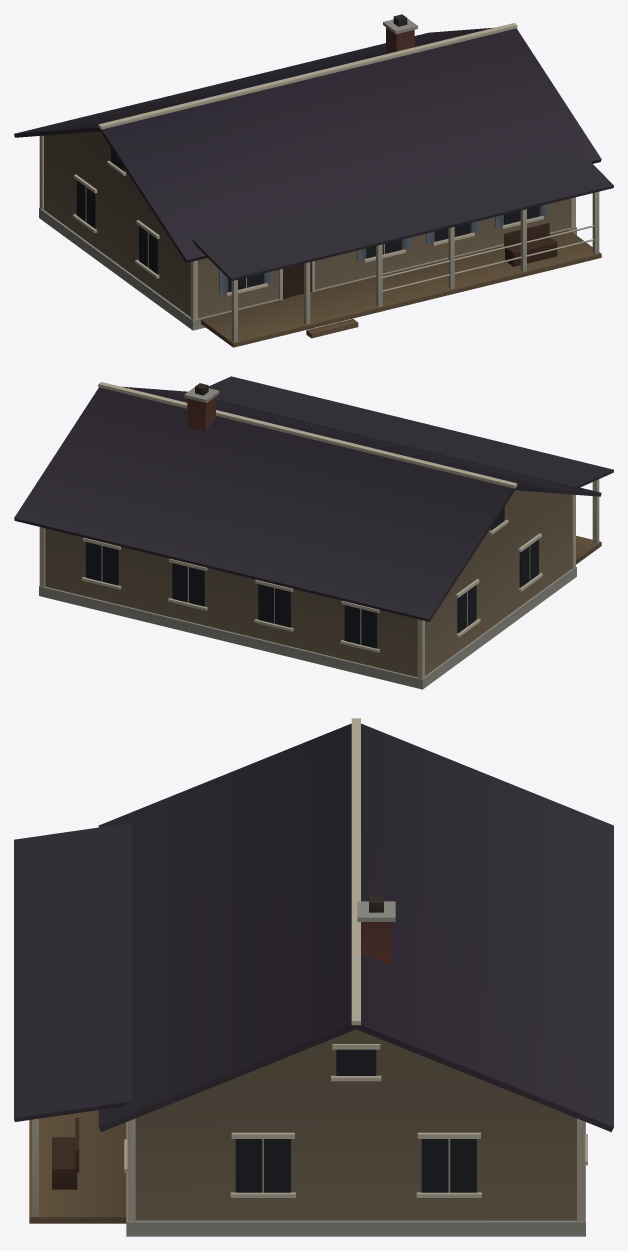
Rendered from shell_wormwood_bungalow.glb.
The picture shows the model from 3 angles, top to bottom: view 1: azimuth 30°, elevation 25°; view 2: azimuth 150°, elevation 25°; view 3: azimuth 270°, elevation 25°; orthographic projection. The views are drawn at different scales.
Visible parts, largest first — view 1: shell_wormwood_bungalow; view 2: shell_wormwood_bungalow; view 3: shell_wormwood_bungalow.
Part boxes in pixels (x1,y1,x2,y2): shell_wormwood_bungalow: [14, 14, 613, 347]; shell_wormwood_bungalow: [14, 376, 613, 689]; shell_wormwood_bungalow: [14, 718, 613, 1236].
Bounding box in the file's own units: 14.24 × 5.92 × 11.93.
